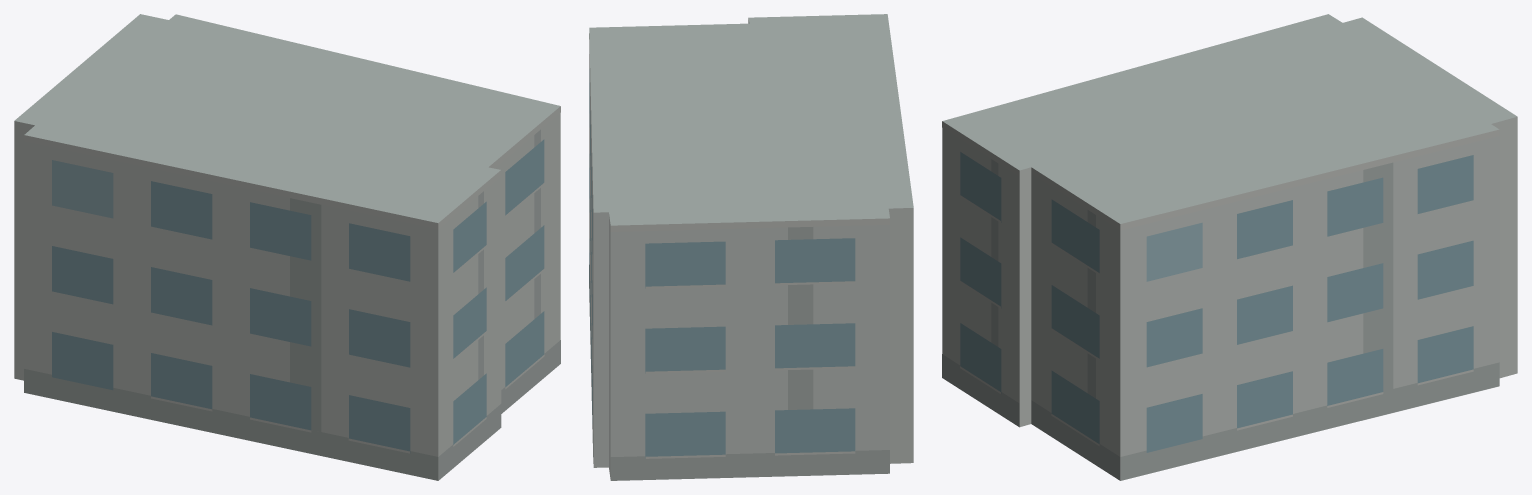
The model's file is residential-e28018cb-9904-476e-9a9d-8f057082e617.glb.
3 views of the same model, side by side, from view 1: azimuth 30°, elevation 25°; view 2: azimuth 150°, elevation 25°; view 3: azimuth 270°, elevation 25° (orthographic).
Visible parts, largest first — view 1: residential-e28018cb-9904-476e-9a9d-8f057082e617.tmp; view 2: residential-e28018cb-9904-476e-9a9d-8f057082e617.tmp; view 3: residential-e28018cb-9904-476e-9a9d-8f057082e617.tmp.
Boxes of the visible parts, x1,y1,x2,y2 form: residential-e28018cb-9904-476e-9a9d-8f057082e617.tmp: (14,14,560,480); residential-e28018cb-9904-476e-9a9d-8f057082e617.tmp: (589,14,913,480); residential-e28018cb-9904-476e-9a9d-8f057082e617.tmp: (942,14,1517,480).
Bounding box in the file's own units: 17.03 × 9.7 × 19.71.
